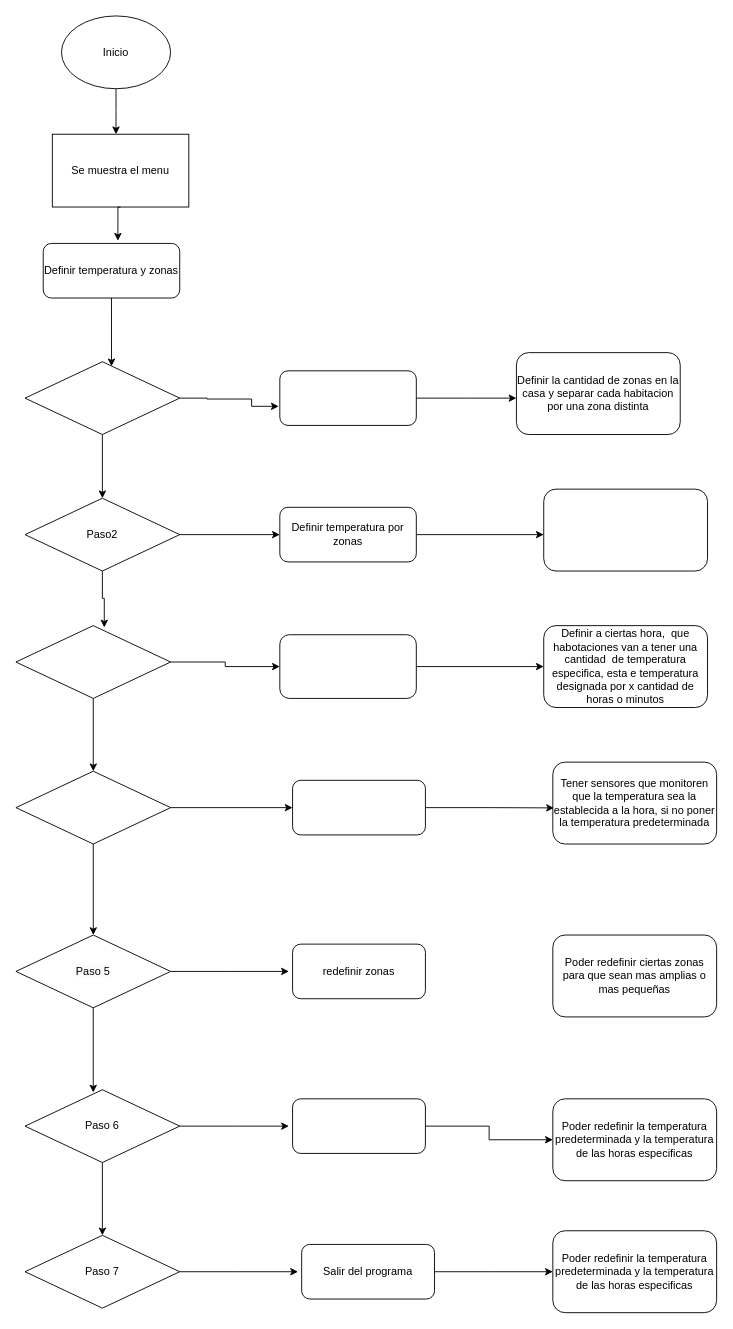
Image size: 733x1329. Some labels were removed from this diagram. Each missing label, with the box of its shape:
Definir a que temperatura se va a encontrar cada habitacion durante todo el dia: (543, 488, 708, 571)
Definir temperaturas especificas para horas definidas: (279, 634, 416, 698)
Definir zonas de la casa: (279, 370, 416, 425)
Paso 1: (24, 361, 180, 435)
Paso 3: (15, 625, 171, 698)
Paso 4: (15, 770, 171, 844)
Redefinir temperatura predeterminada como la temperatura en ciertas horas: (292, 1098, 425, 1153)
Sensores: (292, 779, 425, 835)
